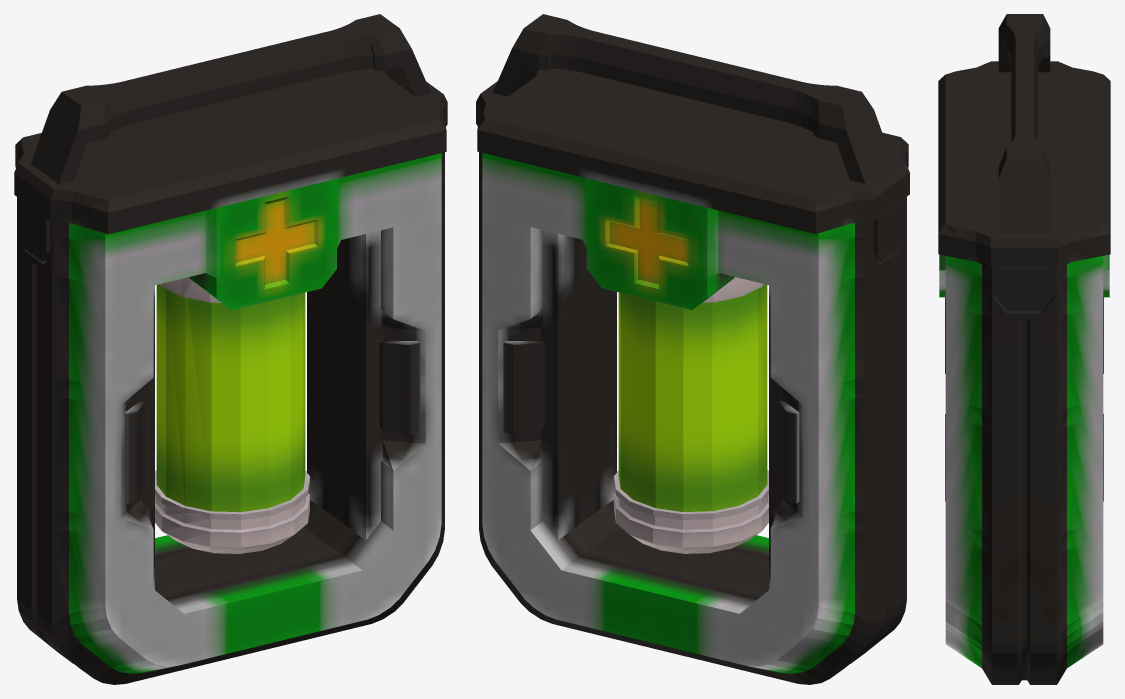
The model's file is health_pack.fbx.
3 renders of one model, left to right at view 1: azimuth 30°, elevation 25°; view 2: azimuth 150°, elevation 25°; view 3: azimuth 270°, elevation 25°, orthographic. The views are drawn at different scales.
Parts seen in each view (by area): view 1: health_pack_LOD0; view 2: health_pack_LOD0; view 3: health_pack_LOD0.
Boxes of the visible parts, box(x1,y1,x2,y2) form: health_pack_LOD0: box(14, 14, 447, 684); health_pack_LOD0: box(476, 14, 909, 684); health_pack_LOD0: box(938, 14, 1110, 684).
Size of what is drawn, in the model's own units: 0.3223 by 0.45 by 0.1306.
Materials: 1 (1 with a texture image).
